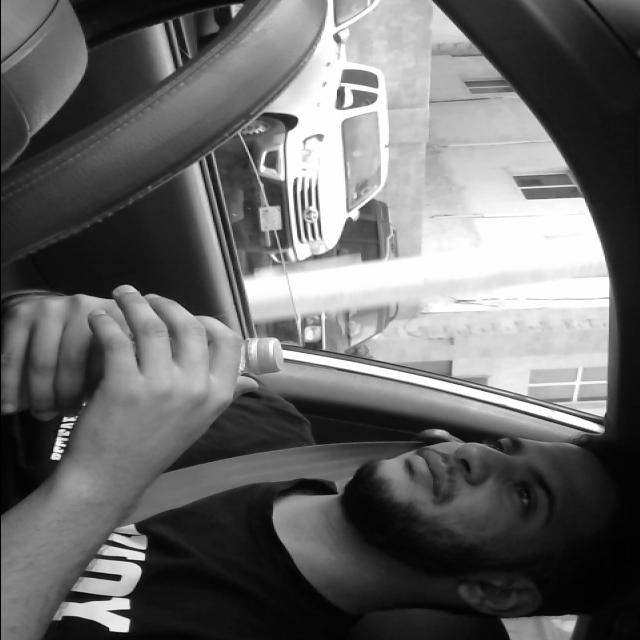drinking: (0, 307, 287, 409)
